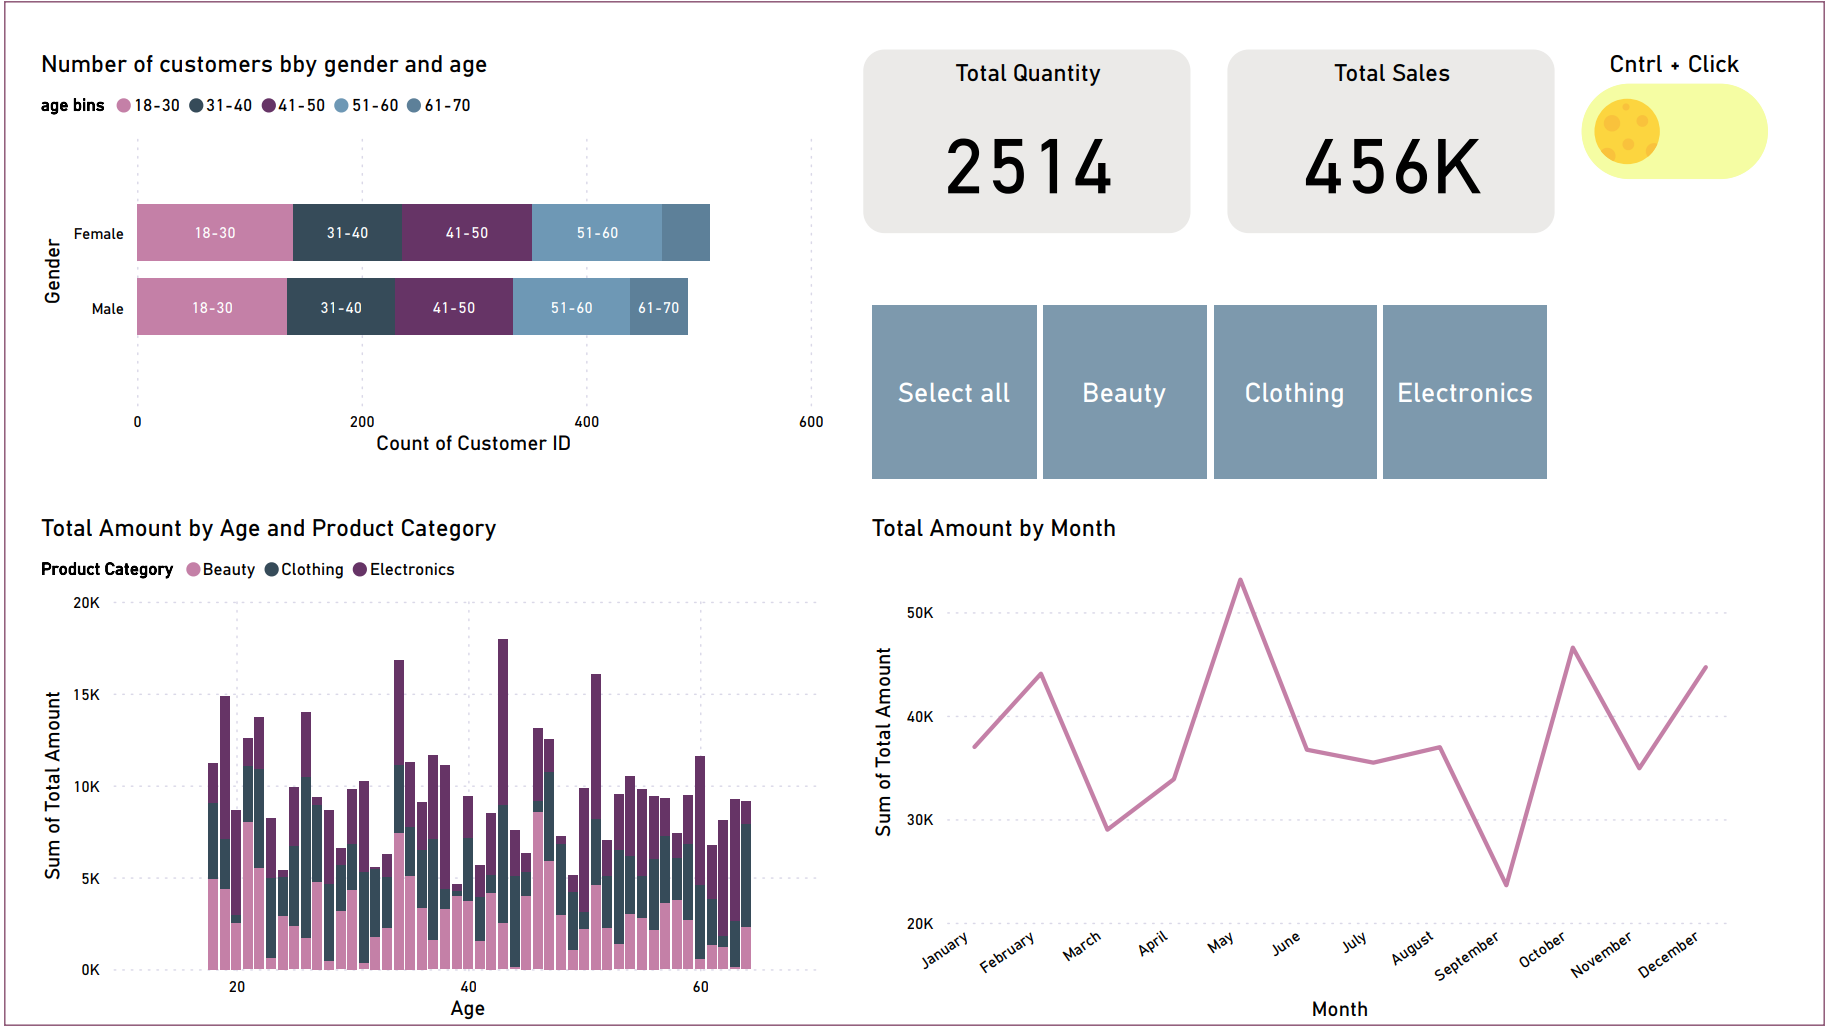

The dashboard page shown, as its layout file describes it:
{"tool":"powerbi","page":{"name":"Store","canvas":[1280,720],"ordinal":0},"visuals":[{"type":"shape","box":[0,0,1280,720],"z":0},{"type":"lineChart","title":"Total Amount by Month","fields":{"Category":["retail_sales_dataset.Date.Variation.Date Hierarchy.Month"],"Y":["Sum(retail_sales_dataset.Total Amount)"]},"box":[604.6,359.6,615.1,360.9],"z":1000},{"type":"slicer","fields":{"Values":["retail_sales_dataset.Product Category"]},"box":[582.9,207.1,527.1,137.1],"z":2000},{"type":"columnChart","title":"Total Amount by Age and Product Category","fields":{"Category":["retail_sales_dataset.Age"],"Y":["Sum(retail_sales_dataset.Total Amount)"],"Series":["retail_sales_dataset.Product Category"]},"box":[21.1,359.6,561.1,360.9],"z":3000},{"type":"card","title":"Total Sales","fields":{"Values":["Sum(retail_sales_dataset.Total Amount)"]},"box":[860,34.3,230,128.6],"z":4000},{"type":"barChart","title":"Number of customers bby gender and age","fields":{"Category":["retail_sales_dataset.Gender"],"Y":["CountNonNull(retail_sales_dataset.Customer ID)"],"Series":["retail_sales_dataset.age bins"]},"box":[21.1,34.2,561.1,289.8],"z":5000},{"type":"card","title":"Total Quantity","fields":{"Values":["Sum(retail_sales_dataset.Quantity)"]},"box":[604.3,34.3,230,128.6],"z":6000},{"type":"slicer","fields":{"Values":["Mode Selection.Mode"]},"box":[1125.7,66,104.3,60],"z":6000,"group":"g1"},{"type":"group","id":"g1","title":"Group 1","box":[1109.1,34.2,130.4,90.9],"z":7000},{"type":"bookmarkNavigator","title":"Cntrl + Click","box":[1109.1,34.2,131.4,91.4],"z":8000,"group":"g1"}]}

Visuals, with their boxes in screenshot pixels (x1, y1, x2, y2), scaled from the page's 1280x720 canvas onto the 1828x1029 screenshot:
shape: select_region(0, 0, 1827, 1028)
"Total Amount by Month" lineChart: select_region(863, 514, 1742, 1028)
slicer - retail_sales_dataset.Product Category: select_region(832, 296, 1585, 492)
"Total Amount by Age and Product Category" columnChart: select_region(30, 514, 831, 1028)
"Total Sales" card: select_region(1228, 49, 1557, 233)
"Number of customers bby gender and age" barChart: select_region(30, 49, 831, 463)
"Total Quantity" card: select_region(863, 49, 1191, 233)
slicer - Mode Selection.Mode: select_region(1608, 94, 1757, 180)
"Group 1" group: select_region(1584, 49, 1770, 179)
"Cntrl + Click" bookmarkNavigator: select_region(1584, 49, 1772, 180)
